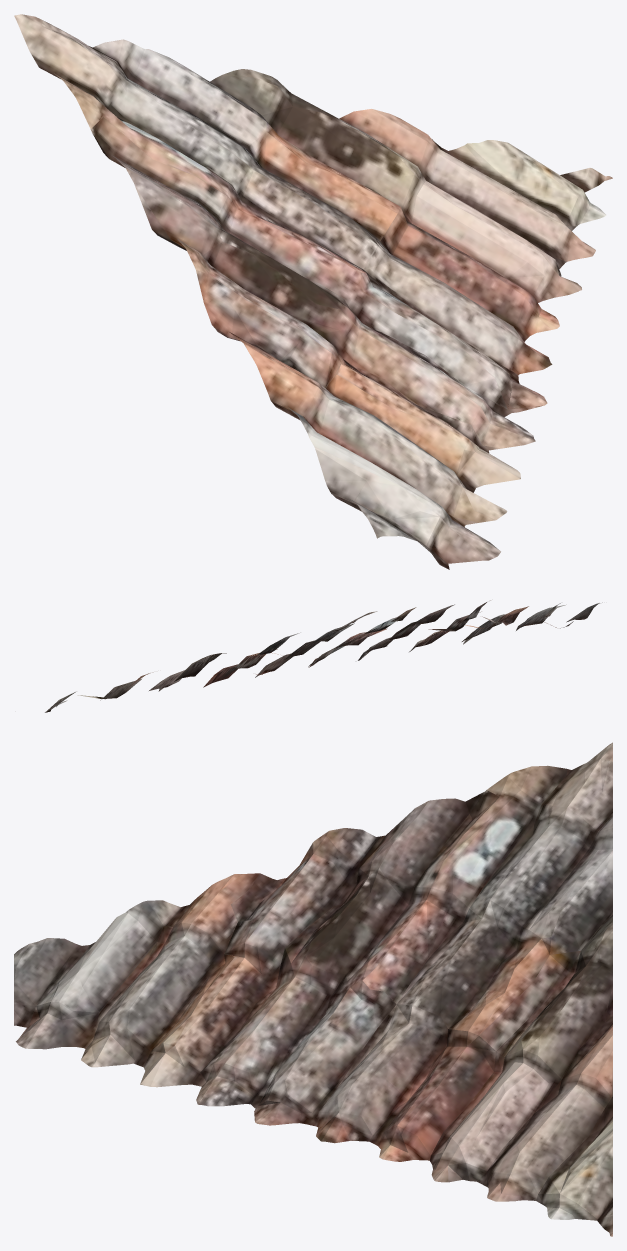
The picture shows the model from 3 angles, top to bottom: view 1: azimuth 30°, elevation 25°; view 2: azimuth 150°, elevation 25°; view 3: azimuth 270°, elevation 25°; orthographic projection. The views are drawn at different scales.
Bounding box in the file's own units: 1.59 × 0.7821 × 1.67.
2 materials, 2 textured.
